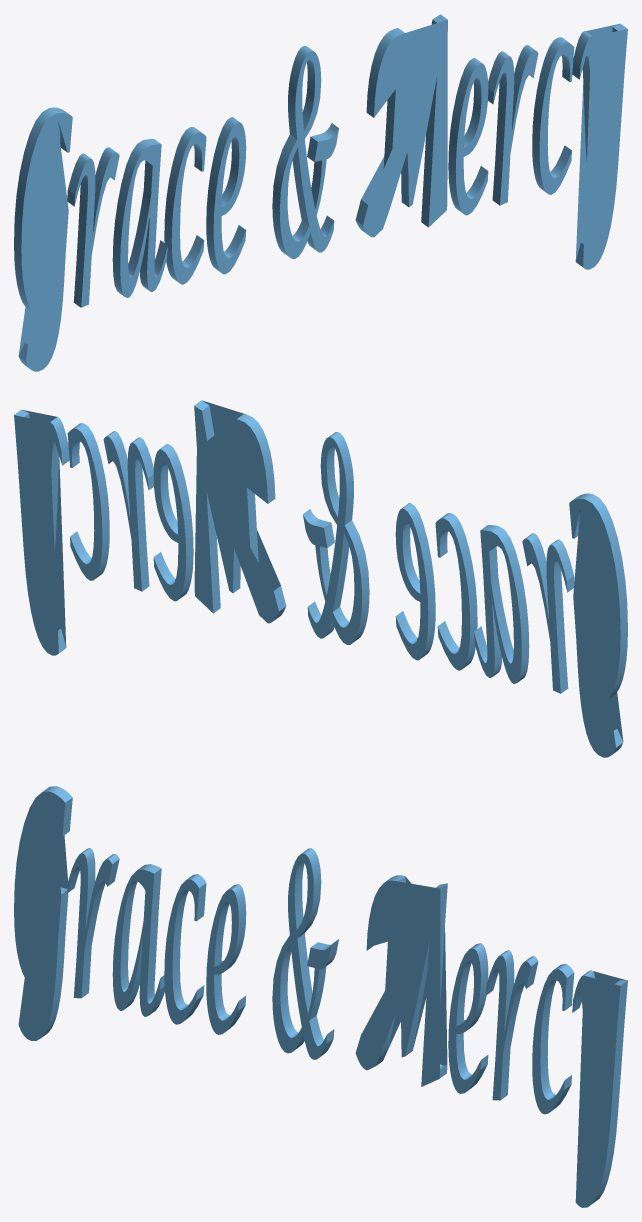
File: Grace&MercySign.fbx
3 views of the same model, one above another, from view 1: azimuth 30°, elevation 25°; view 2: azimuth 150°, elevation 25°; view 3: azimuth 330°, elevation 25° (orthographic).
Parts seen in each view (by area): view 1: Grace_and_Mercy_Sign:typeMesh1; view 2: Grace_and_Mercy_Sign:typeMesh1; view 3: Grace_and_Mercy_Sign:typeMesh1.
Boxes of the visible parts, x1=… form: Grace_and_Mercy_Sign:typeMesh1: x1=14, y1=14, x2=627, y2=371; Grace_and_Mercy_Sign:typeMesh1: x1=14, y1=400, x2=627, y2=757; Grace_and_Mercy_Sign:typeMesh1: x1=14, y1=786, x2=627, y2=1207.
Bounding box in the file's own units: 4.48 × 2.02 × 0.0946.
